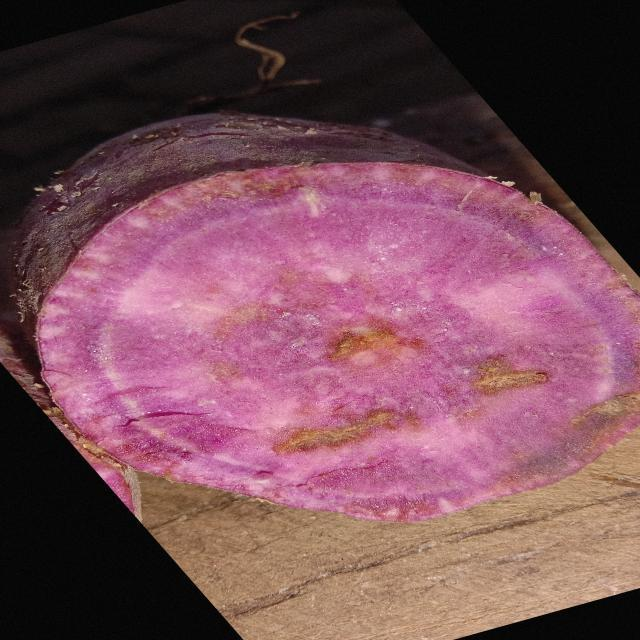Sick Sweet Potato_Tuber Rot: (38, 164, 638, 521)
